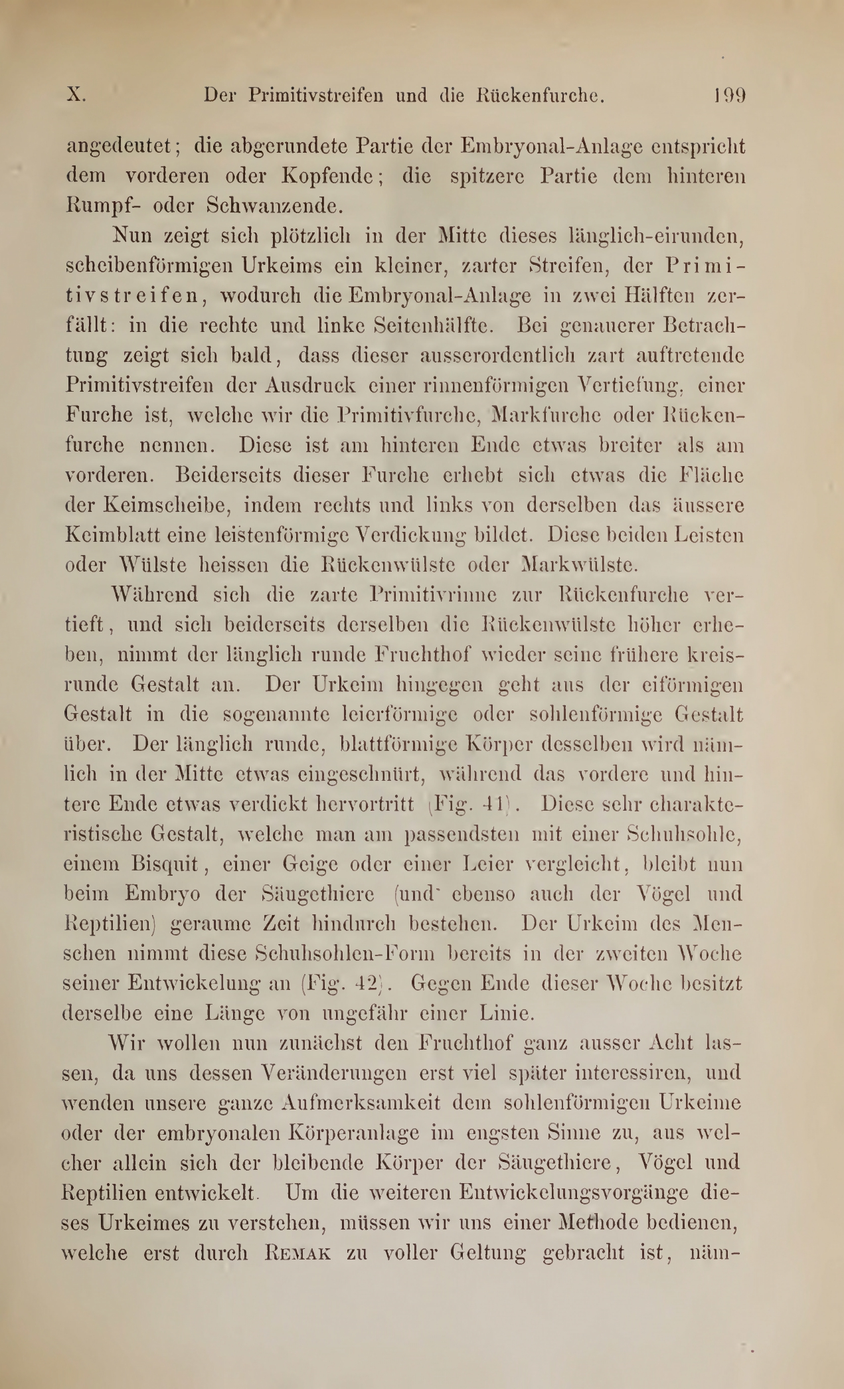MainZone: (43, 129, 763, 1277)
NumberingZone chapter: (56, 70, 99, 115)
NumberingZone_page: (702, 80, 759, 118)
RunningTitleZone: (191, 77, 615, 121)
